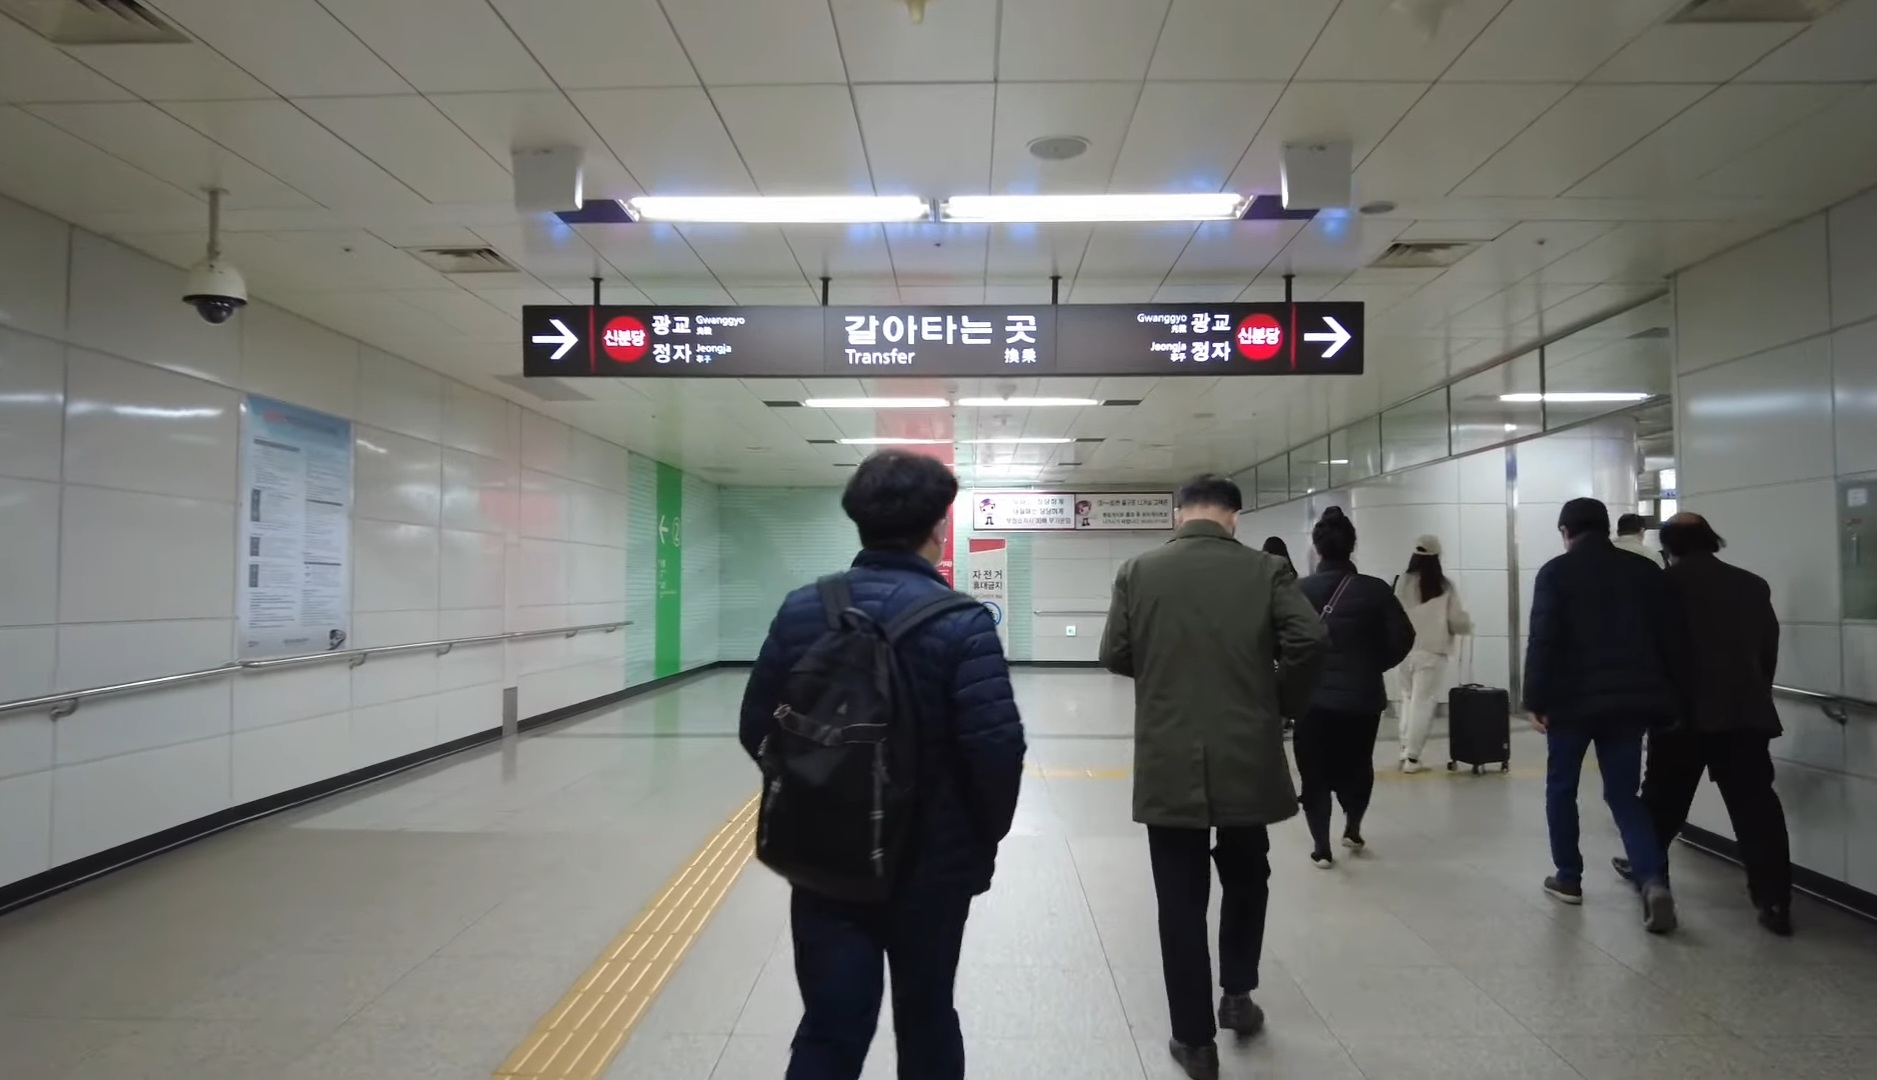signBoard: (504, 267, 1374, 389)
